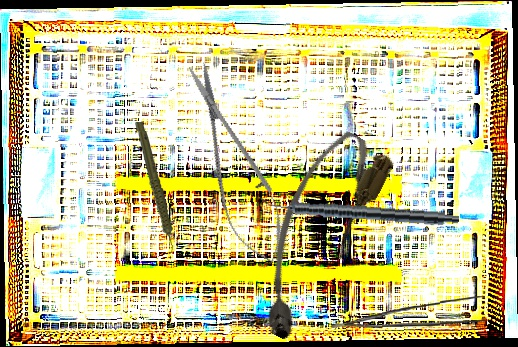Cannula: (232, 123, 398, 347)
Handpiece: (259, 195, 460, 227), (134, 121, 175, 255)
Micro Scissor: (170, 54, 299, 274)
Tissue Forceps: (331, 295, 491, 329)
